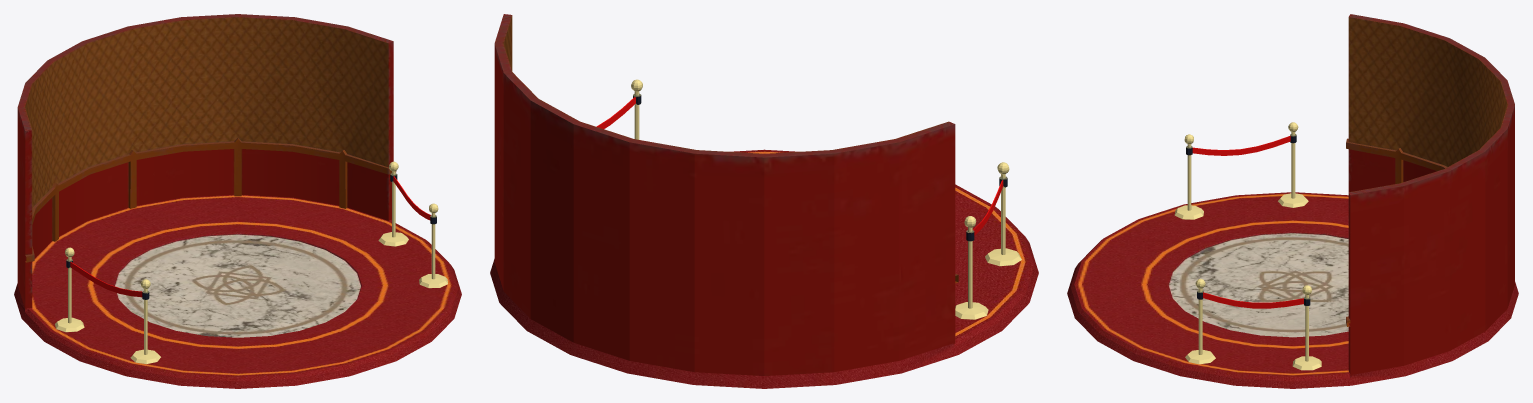
File: retro_style_stage.glb
The picture shows the model from 3 angles, left to right: view 1: azimuth 30°, elevation 25°; view 2: azimuth 150°, elevation 25°; view 3: azimuth 270°, elevation 25°; orthographic projection. The views are drawn at different scales.
Parts seen in each view (by area): view 1: defaultMaterial; view 2: defaultMaterial; view 3: defaultMaterial.
Part boxes in pixels (x1,y1,x2,y2): defaultMaterial: (14, 14, 461, 388); defaultMaterial: (490, 14, 1038, 388); defaultMaterial: (1067, 14, 1518, 388).
Size of the model in its own units: 6.35 by 2.93 by 6.35.
1 material, 1 textured.
